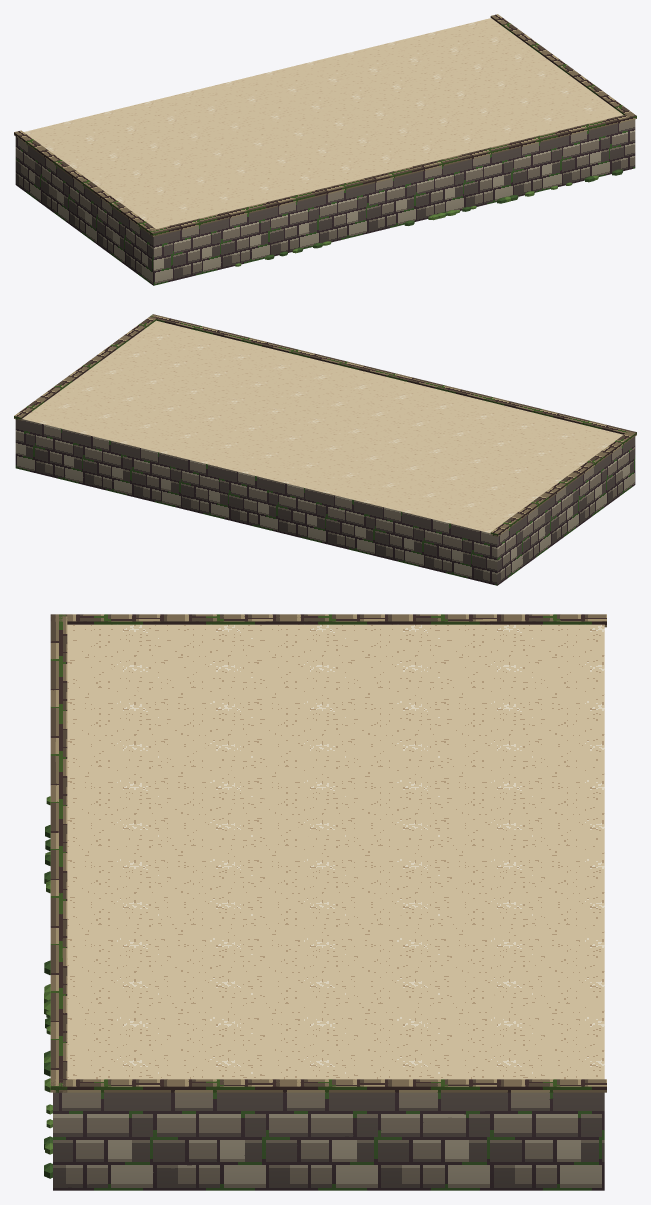
Rendered from scene_plat_b8.glb.
The picture shows the model from 3 angles, top to bottom: view 1: azimuth 30°, elevation 25°; view 2: azimuth 150°, elevation 25°; view 3: azimuth 270°, elevation 25°; orthographic projection. The views are drawn at different scales.
Parts seen in each view (by area): view 1: scene_plat_b8; view 2: scene_plat_b8; view 3: scene_plat_b8.
Part boxes in pixels (x1=…): scene_plat_b8: x1=14, y1=14, x2=636, y2=285; scene_plat_b8: x1=14, y1=314, x2=636, y2=585; scene_plat_b8: x1=44, y1=614, x2=606, y2=1190.
Size of the model in its own units: 23.9 by 2.57 by 12.04.
Materials: 3 (2 with a texture image).
